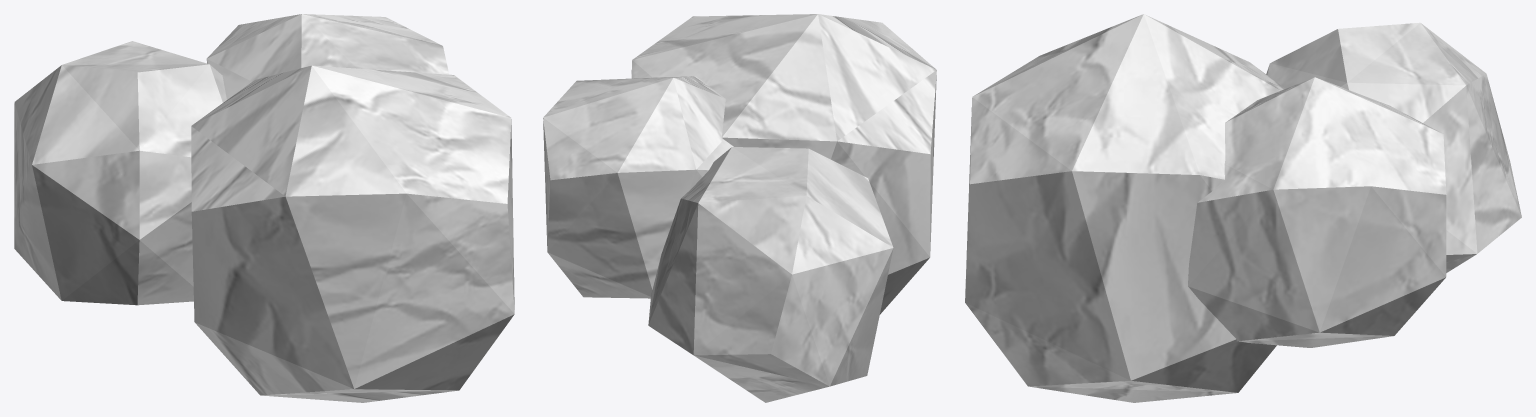
Rendered from clouds.FBX.
3 renders of one model, left to right at view 1: azimuth 30°, elevation 25°; view 2: azimuth 150°, elevation 25°; view 3: azimuth 270°, elevation 25°, orthographic. The views are drawn at different scales.
Parts seen in each view (by area): view 1: Object003; view 2: Object003; view 3: Object003.
Part boxes in pixels (box(x1,y1,x2,y2)): Object003: box(14, 14, 514, 402); Object003: box(543, 14, 936, 402); Object003: box(965, 14, 1521, 402).
Size of the model in its own units: 159 by 138 by 191.
1 material, 1 textured.
